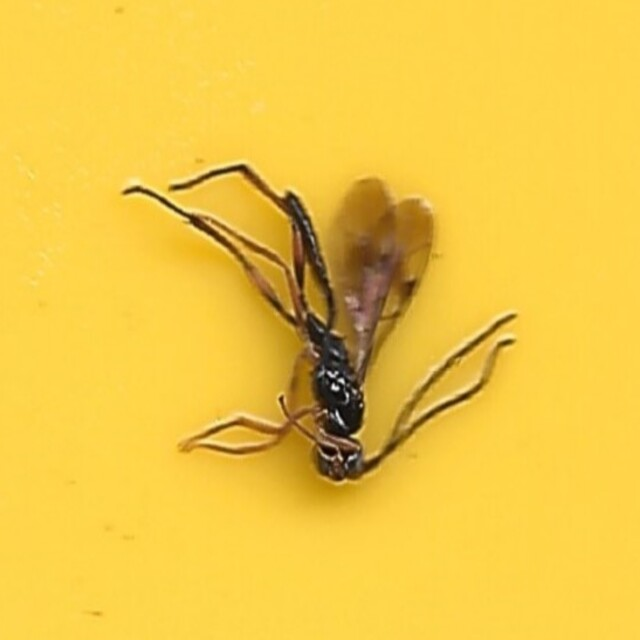Hymenoptera: (117, 155, 523, 485)
